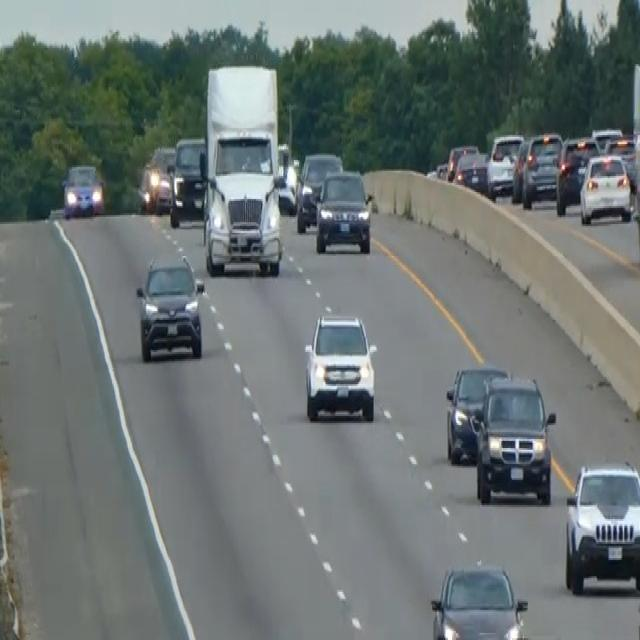car: (474, 371, 556, 505), (563, 457, 639, 595), (134, 252, 205, 362), (429, 560, 529, 638), (444, 363, 507, 464), (315, 167, 373, 254), (578, 149, 632, 224), (295, 149, 343, 233), (555, 133, 601, 215), (168, 135, 207, 226), (521, 130, 563, 208), (486, 130, 523, 199), (140, 144, 175, 213), (61, 162, 104, 218), (604, 134, 639, 190), (276, 140, 298, 213), (453, 148, 488, 192), (445, 142, 477, 182)
jeep: (301, 307, 377, 425)
lorry: (200, 60, 283, 278)
